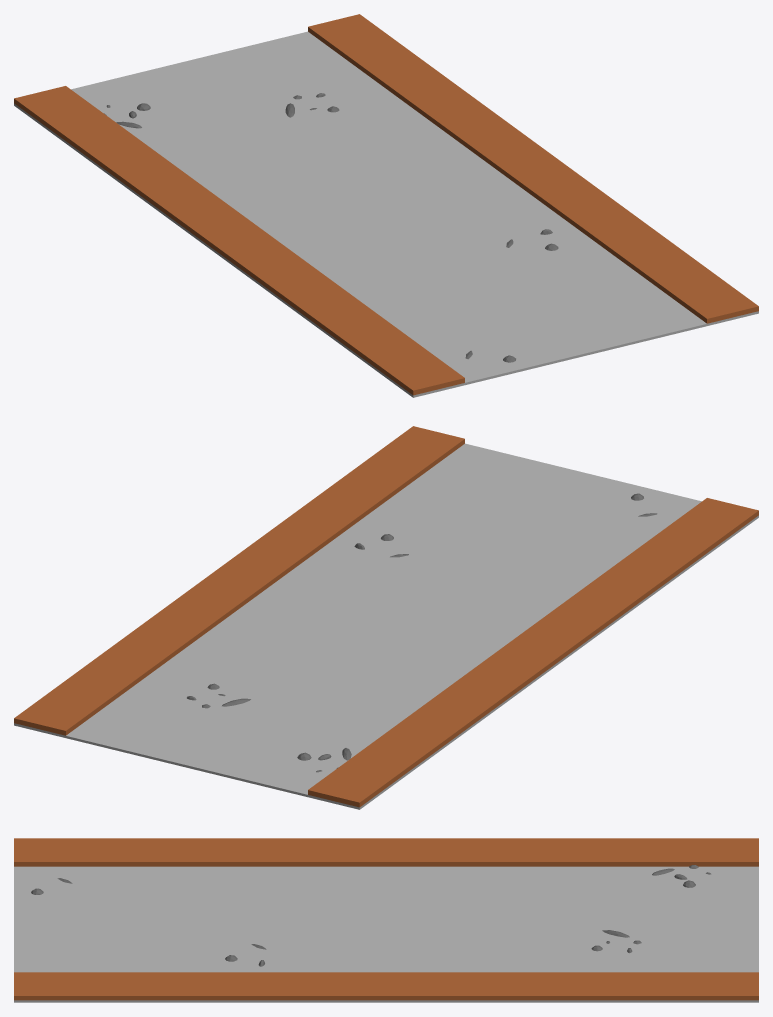
The model's file is ParkPath 1.fbx.
3 renders of one model, top to bottom at view 1: azimuth 30°, elevation 25°; view 2: azimuth 150°, elevation 25°; view 3: azimuth 270°, elevation 25°, orthographic. The views are drawn at different scales.
Parts seen in each view (by area): view 1: Cube; view 2: Cube; view 3: Cube.
Boxes of the visible parts, <box> form: Cube: <box>14,14,758,397</box>; Cube: <box>14,426,758,809</box>; Cube: <box>14,838,758,1002</box>.
Size of the model in its own units: 1000 by 59.08 by 2000.
